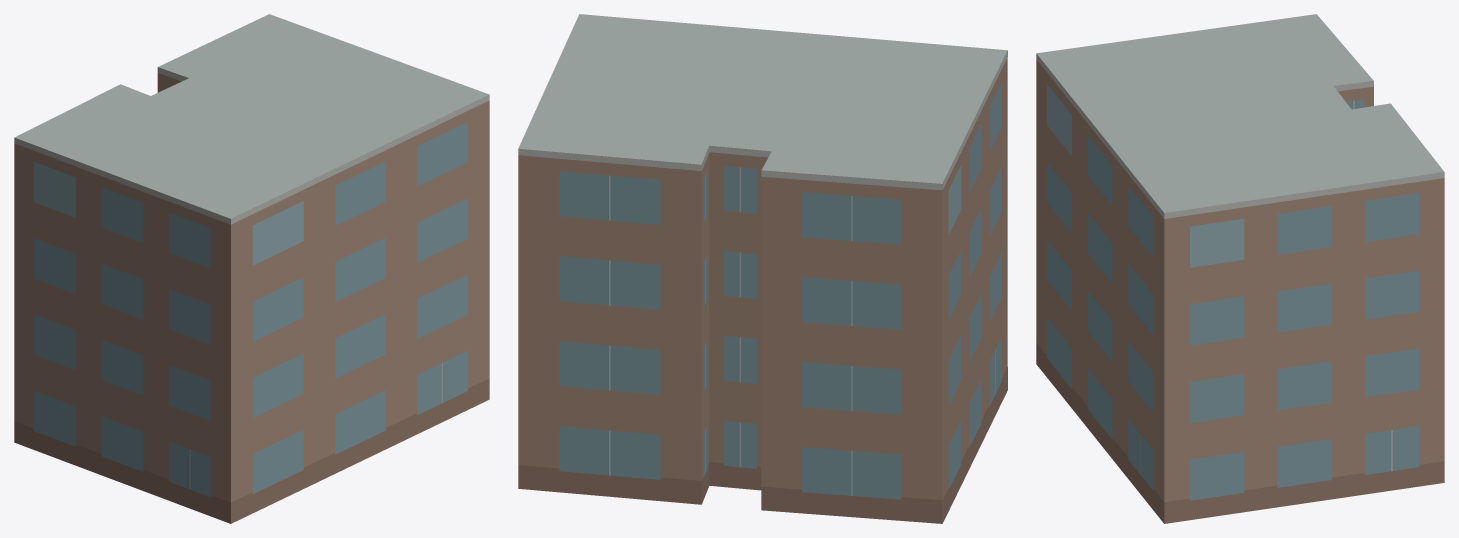
Rendered from survey-upis-32737989.glb.
3 renders of one model, left to right at view 1: azimuth 30°, elevation 25°; view 2: azimuth 150°, elevation 25°; view 3: azimuth 270°, elevation 25°, orthographic. The views are drawn at different scales.
Visible parts, largest first — view 1: survey-upis-32737989.tmp; view 2: survey-upis-32737989.tmp; view 3: survey-upis-32737989.tmp.
Part boxes in pixels (bbox=[...]): survey-upis-32737989.tmp: bbox=[14, 14, 489, 523]; survey-upis-32737989.tmp: bbox=[518, 14, 1007, 523]; survey-upis-32737989.tmp: bbox=[1036, 14, 1444, 523].
Size of the model in its own units: 17.6 by 12.8 by 15.25.
